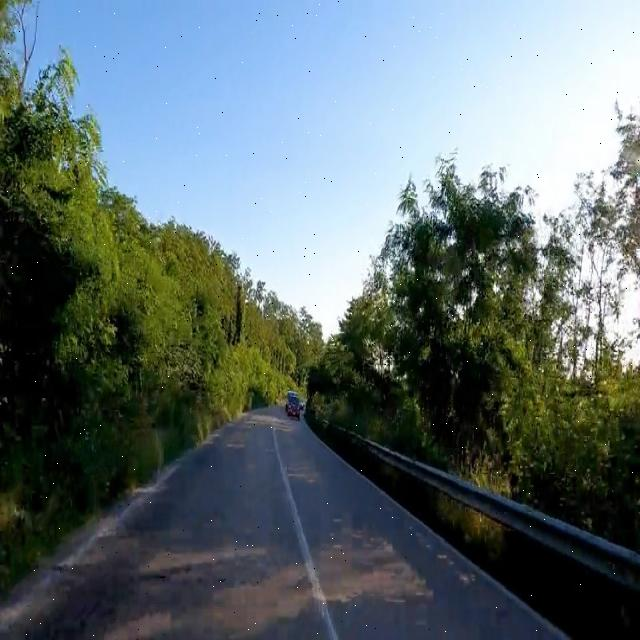lane: (273, 428, 339, 639)
road: (1, 407, 564, 638)
